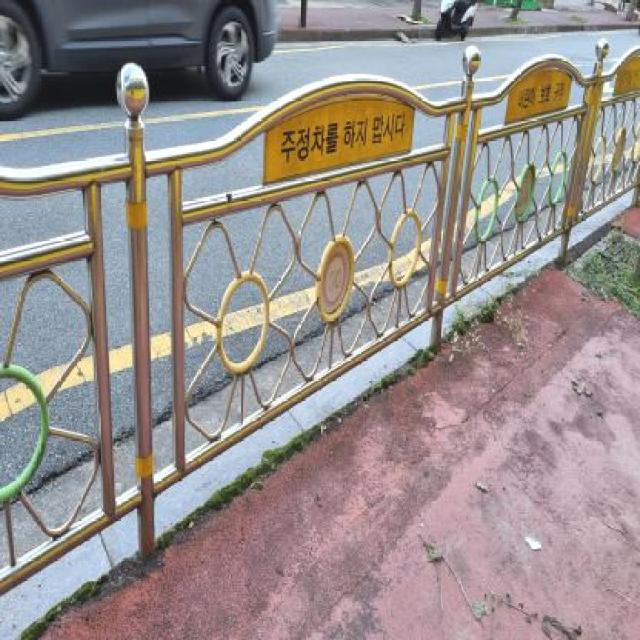fence: (0, 81, 397, 502), (363, 20, 635, 347)
